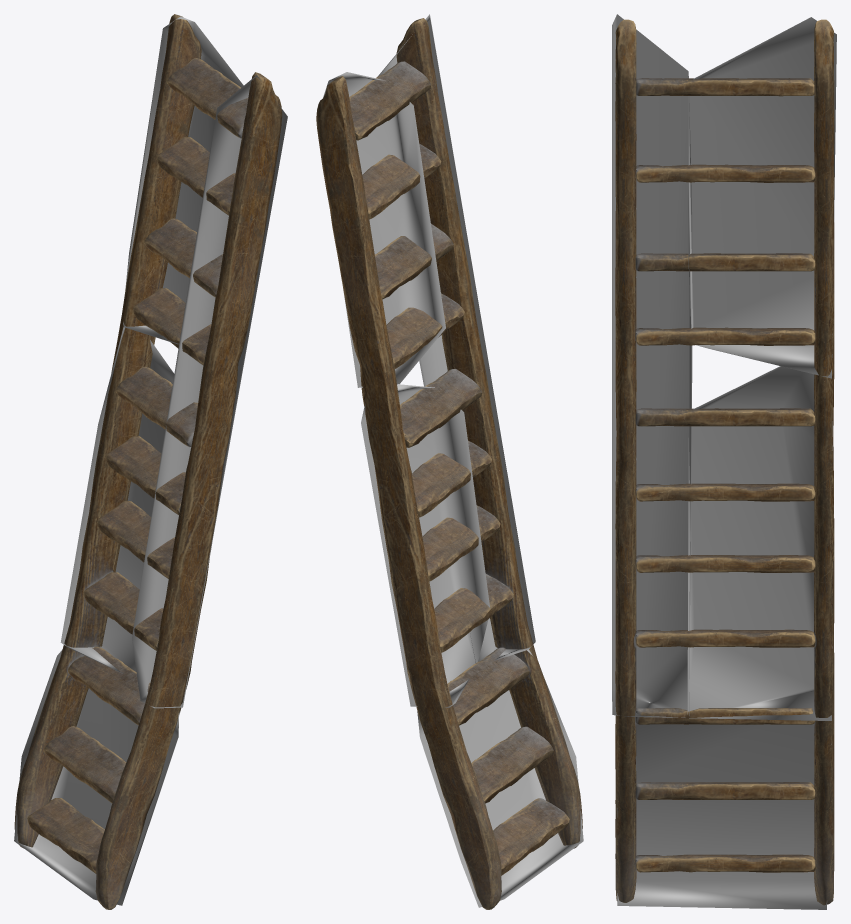
Rendered from SM_Ladder.gltf.
The picture shows the model from 3 angles, left to right: view 1: azimuth 30°, elevation 25°; view 2: azimuth 150°, elevation 25°; view 3: azimuth 270°, elevation 25°; orthographic projection. The views are drawn at different scales.
Parts seen in each view (by area): view 1: SM_Ladder_LOD0, SM_Ladder_ConvexHulls; view 2: SM_Ladder_LOD0, SM_Ladder_ConvexHulls; view 3: SM_Ladder_ConvexHulls, SM_Ladder_LOD0.
Part boxes in pixels (x1=…): SM_Ladder_LOD0: x1=14, y1=14, x2=282, y2=909; SM_Ladder_ConvexHulls: x1=14, y1=16, x2=287, y2=905; SM_Ladder_LOD0: x1=316, y1=18, x2=582, y2=909; SM_Ladder_ConvexHulls: x1=323, y1=14, x2=583, y2=907; SM_Ladder_ConvexHulls: x1=612, y1=14, x2=836, y2=909; SM_Ladder_LOD0: x1=615, y1=19, x2=834, y2=905.
Size of what is drawn, in the model's own units: 1.02 by 4.12 by 0.861.
